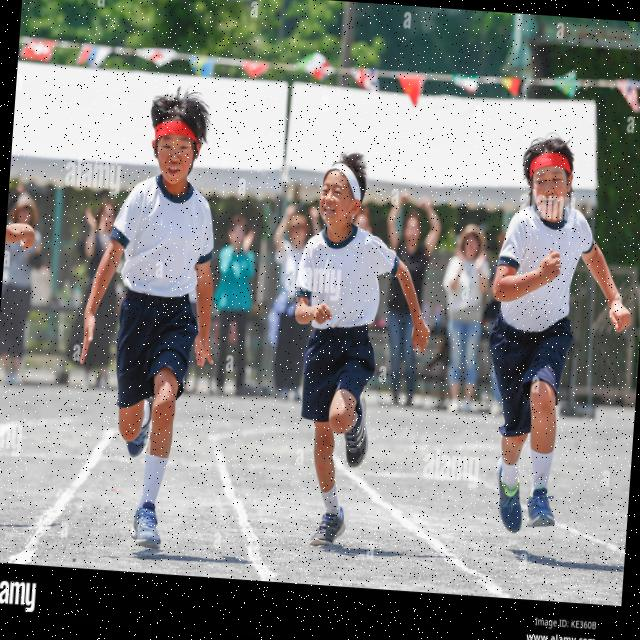Person: (66, 90, 232, 552), (476, 132, 640, 539), (278, 150, 441, 554), (434, 223, 493, 414)
